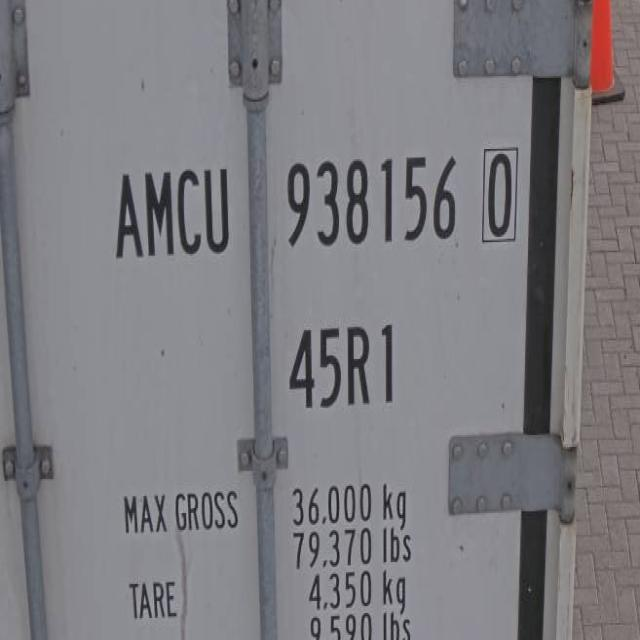dv: (476, 139, 520, 255)
owner: (106, 146, 237, 278)
serial: (275, 132, 463, 268)
size: (282, 307, 406, 424)
